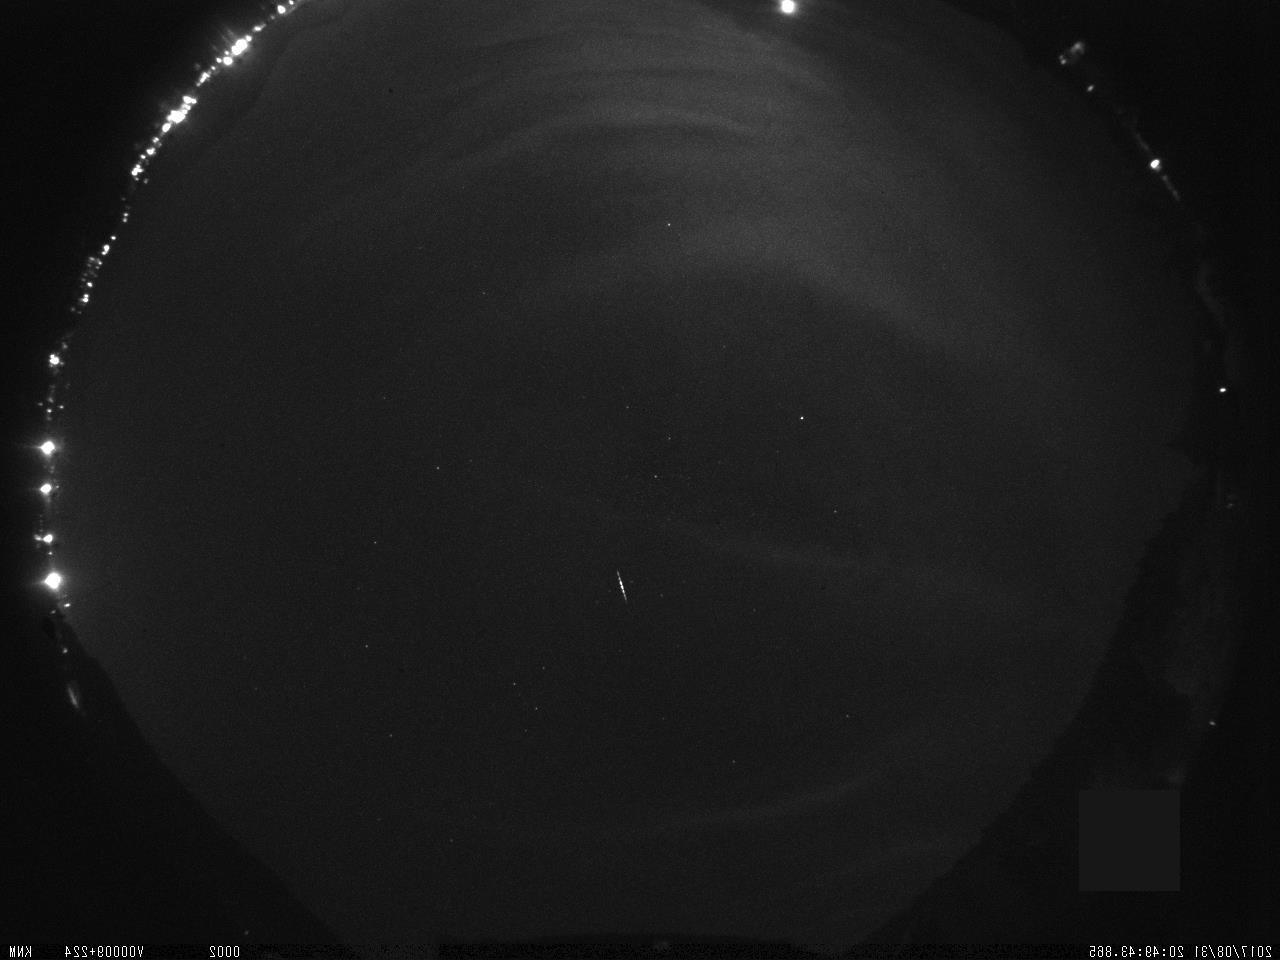meteor: (610, 564, 634, 610)
